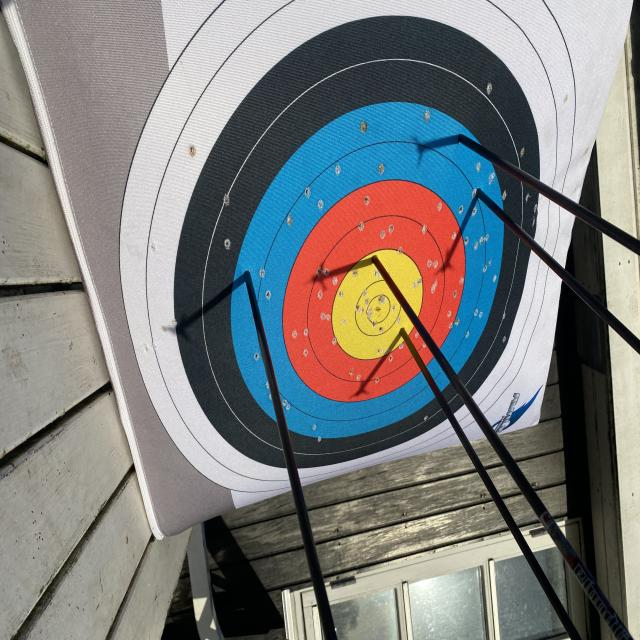Arrow_Blue: (227, 255, 264, 295), (447, 120, 482, 158), (467, 182, 496, 205)
Arrow_Yellow: (368, 244, 388, 278), (395, 317, 410, 346)
